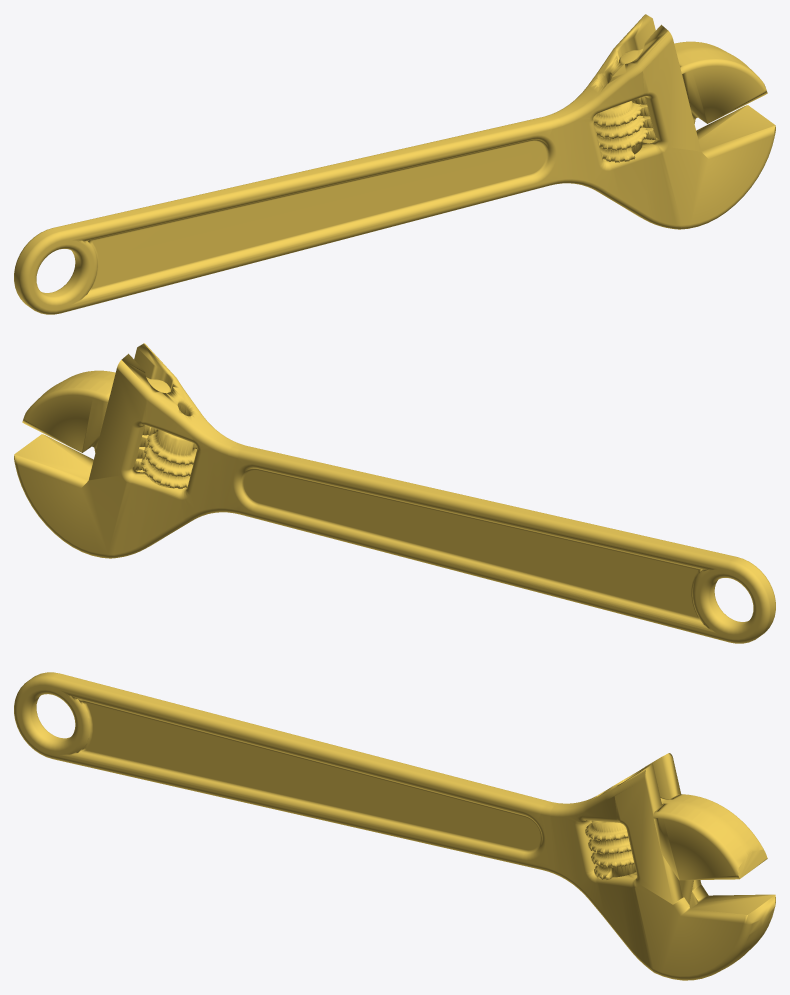
Rendered from adjustable_wrench.glb.
3 views of the same model, one above another, from view 1: azimuth 30°, elevation 25°; view 2: azimuth 150°, elevation 25°; view 3: azimuth 330°, elevation 25° (orthographic).
Bounding box in the file's own units: 0.22 × 0.0576 × 0.0145.
